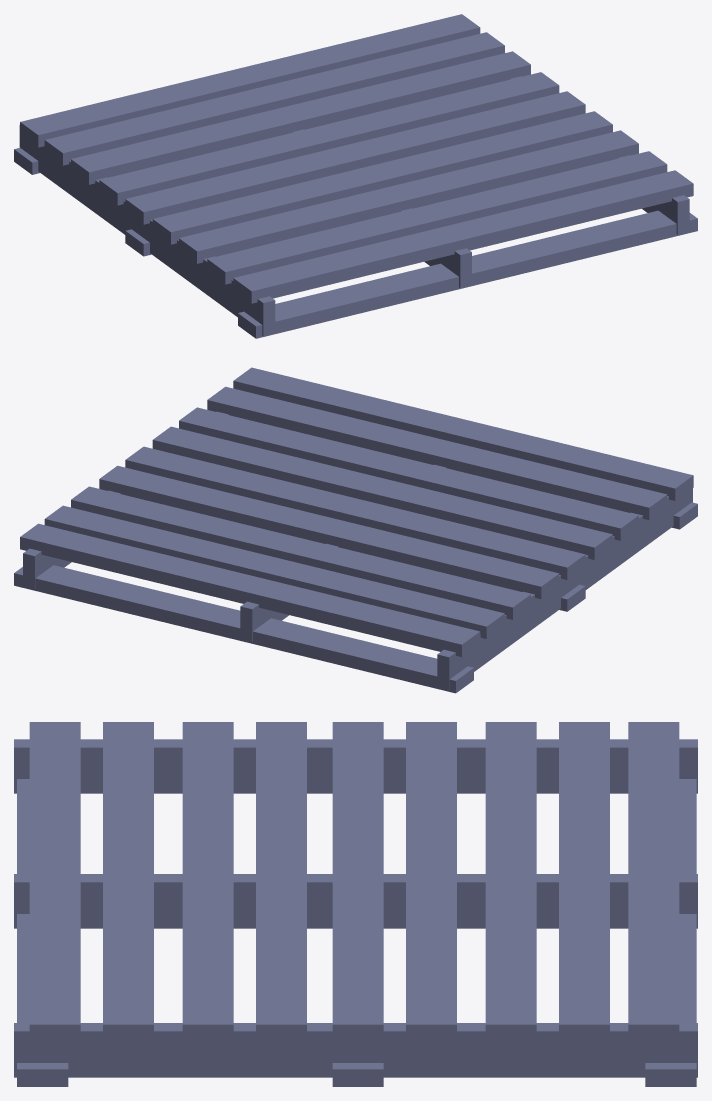
The model's file is palette.fbx.
3 renders of one model, top to bottom at view 1: azimuth 30°, elevation 25°; view 2: azimuth 150°, elevation 25°; view 3: azimuth 270°, elevation 25°, orthographic. The views are drawn at different scales.
Visible parts, largest first — view 1: Cube.003, Cube.004, Cube.007, Cube.008, Cube.020, Cube.009, Cube.006, Cube.005, Cube.001, Cube.010, Cube.002, Cube.011 (+1 smaller); view 2: Cube.010, Cube.009, Cube.001, Cube.013, Cube.005, Cube.003, Cube.008, Cube.004, Cube.007, Cube.006, Cube.002, Cube.012 (+1 smaller); view 3: Cube.011, Cube.010, Cube.008, Cube.007, Cube.004, Cube.003, Cube.009, Cube.006, Cube.005, Cube.001, Cube.012, Cube.002 (+3 smaller).
Boxes of the visible parts, box(x1,y1,x2,y2) form: Cube.003: box(233, 170, 693, 303); Cube.004: box(179, 130, 638, 263); Cube.007: box(71, 51, 530, 184); Cube.008: box(125, 91, 585, 224); Cube.020: box(238, 210, 697, 338); Cube.009: box(99, 72, 559, 205); Cube.006: box(44, 32, 504, 165); Cube.005: box(152, 111, 612, 244); Cube.001: box(207, 151, 667, 284); Cube.010: box(20, 14, 480, 147); Cube.002: box(19, 125, 275, 335); Cube.011: box(509, 76, 689, 234); Cube.010: box(20, 523, 480, 656); Cube.009: box(99, 465, 559, 598); Cube.001: box(207, 386, 667, 519); Cube.013: box(14, 565, 473, 693); Cube.005: box(152, 426, 612, 559); Cube.003: box(233, 367, 693, 500); Cube.008: box(125, 446, 585, 579); Cube.004: box(179, 407, 638, 540); Cube.007: box(71, 486, 530, 619); Cube.006: box(44, 505, 504, 638); Cube.002: box(437, 488, 692, 690); Cube.012: box(240, 464, 446, 642); Cube.011: box(14, 1023, 697, 1077); Cube.010: box(628, 722, 679, 1042); Cube.008: box(332, 722, 383, 1042); Cube.007: box(485, 722, 536, 1042); Cube.004: box(182, 722, 233, 1042); Cube.003: box(29, 722, 80, 1042); Cube.009: box(406, 722, 456, 1042); Cube.006: box(559, 722, 609, 1042); Cube.005: box(256, 722, 306, 1042); Cube.001: box(103, 722, 153, 1042); Cube.012: box(14, 874, 697, 928); Cube.002: box(14, 739, 697, 793).
Size of the model in its own units: 191 by 18.31 by 183.
